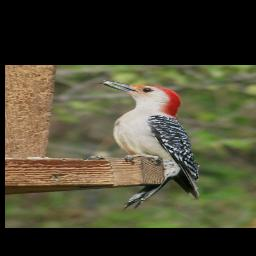Woodpecker: (96, 79, 199, 211)
